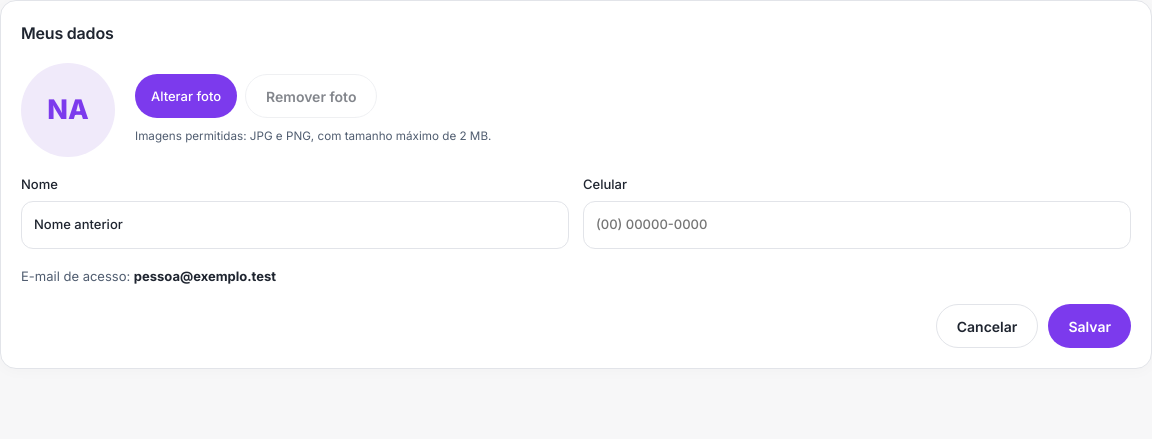
Test: meus dados salvam nome e celular e mostram confirmação
Replace the text in the field labelled "Nome" with "Novo nome" at (295, 224), box 21,200 -> 569,248
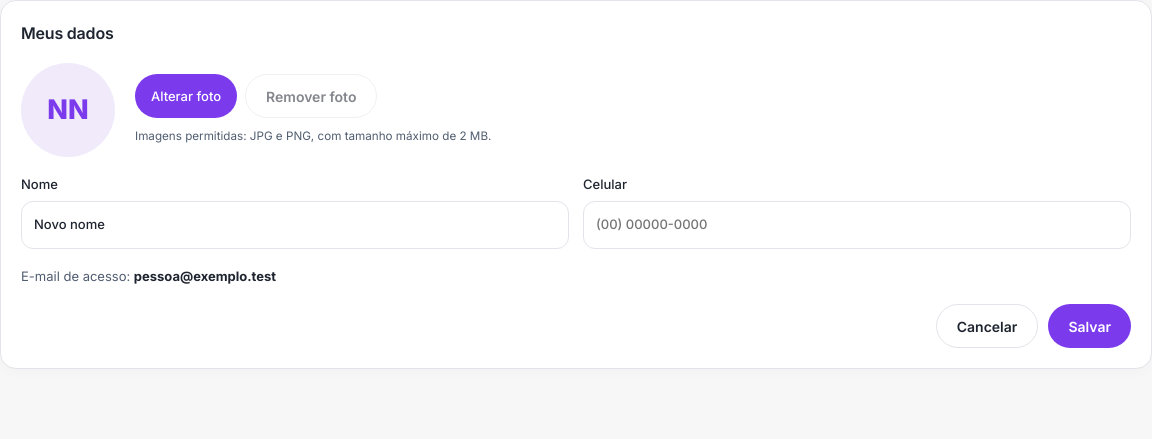
Type "(11) 98765-4321" into the field labelled "Celular" at (857, 224), box 583,200 -> 1131,248
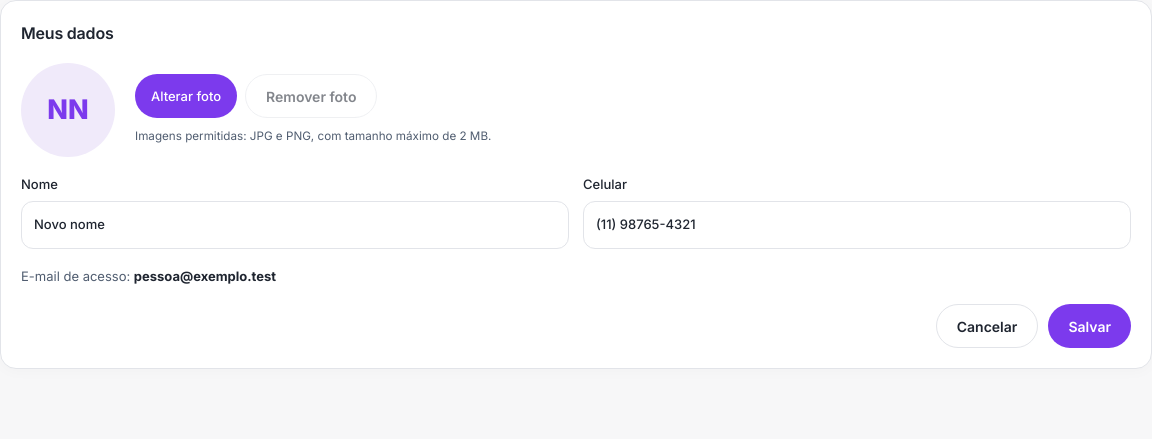
Click the button "Salvar" at (1090, 326), box 1048,304 -> 1131,348
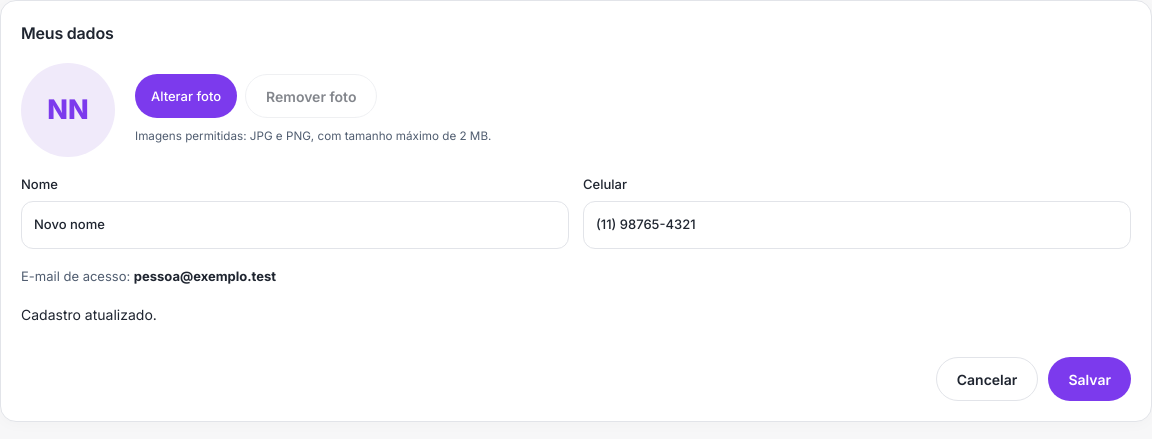
expect the text "pessoa@exemplo.test" is shown: met, box 134,268 -> 276,284
expect the message shows "Cadastro atualizado": met, box 21,306 -> 157,323
